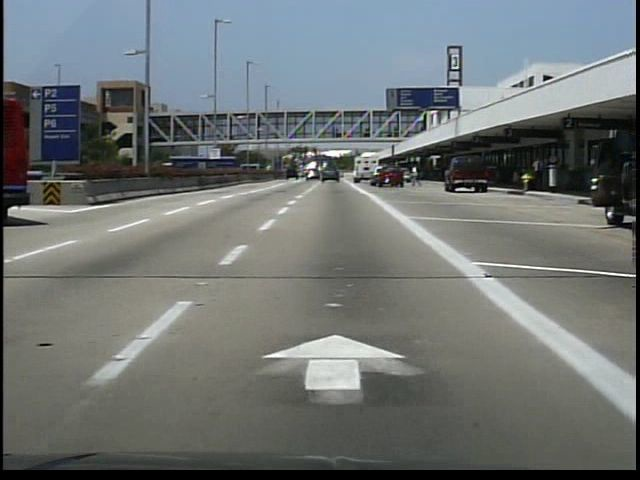person: (528, 154, 547, 197), (410, 167, 424, 190)
